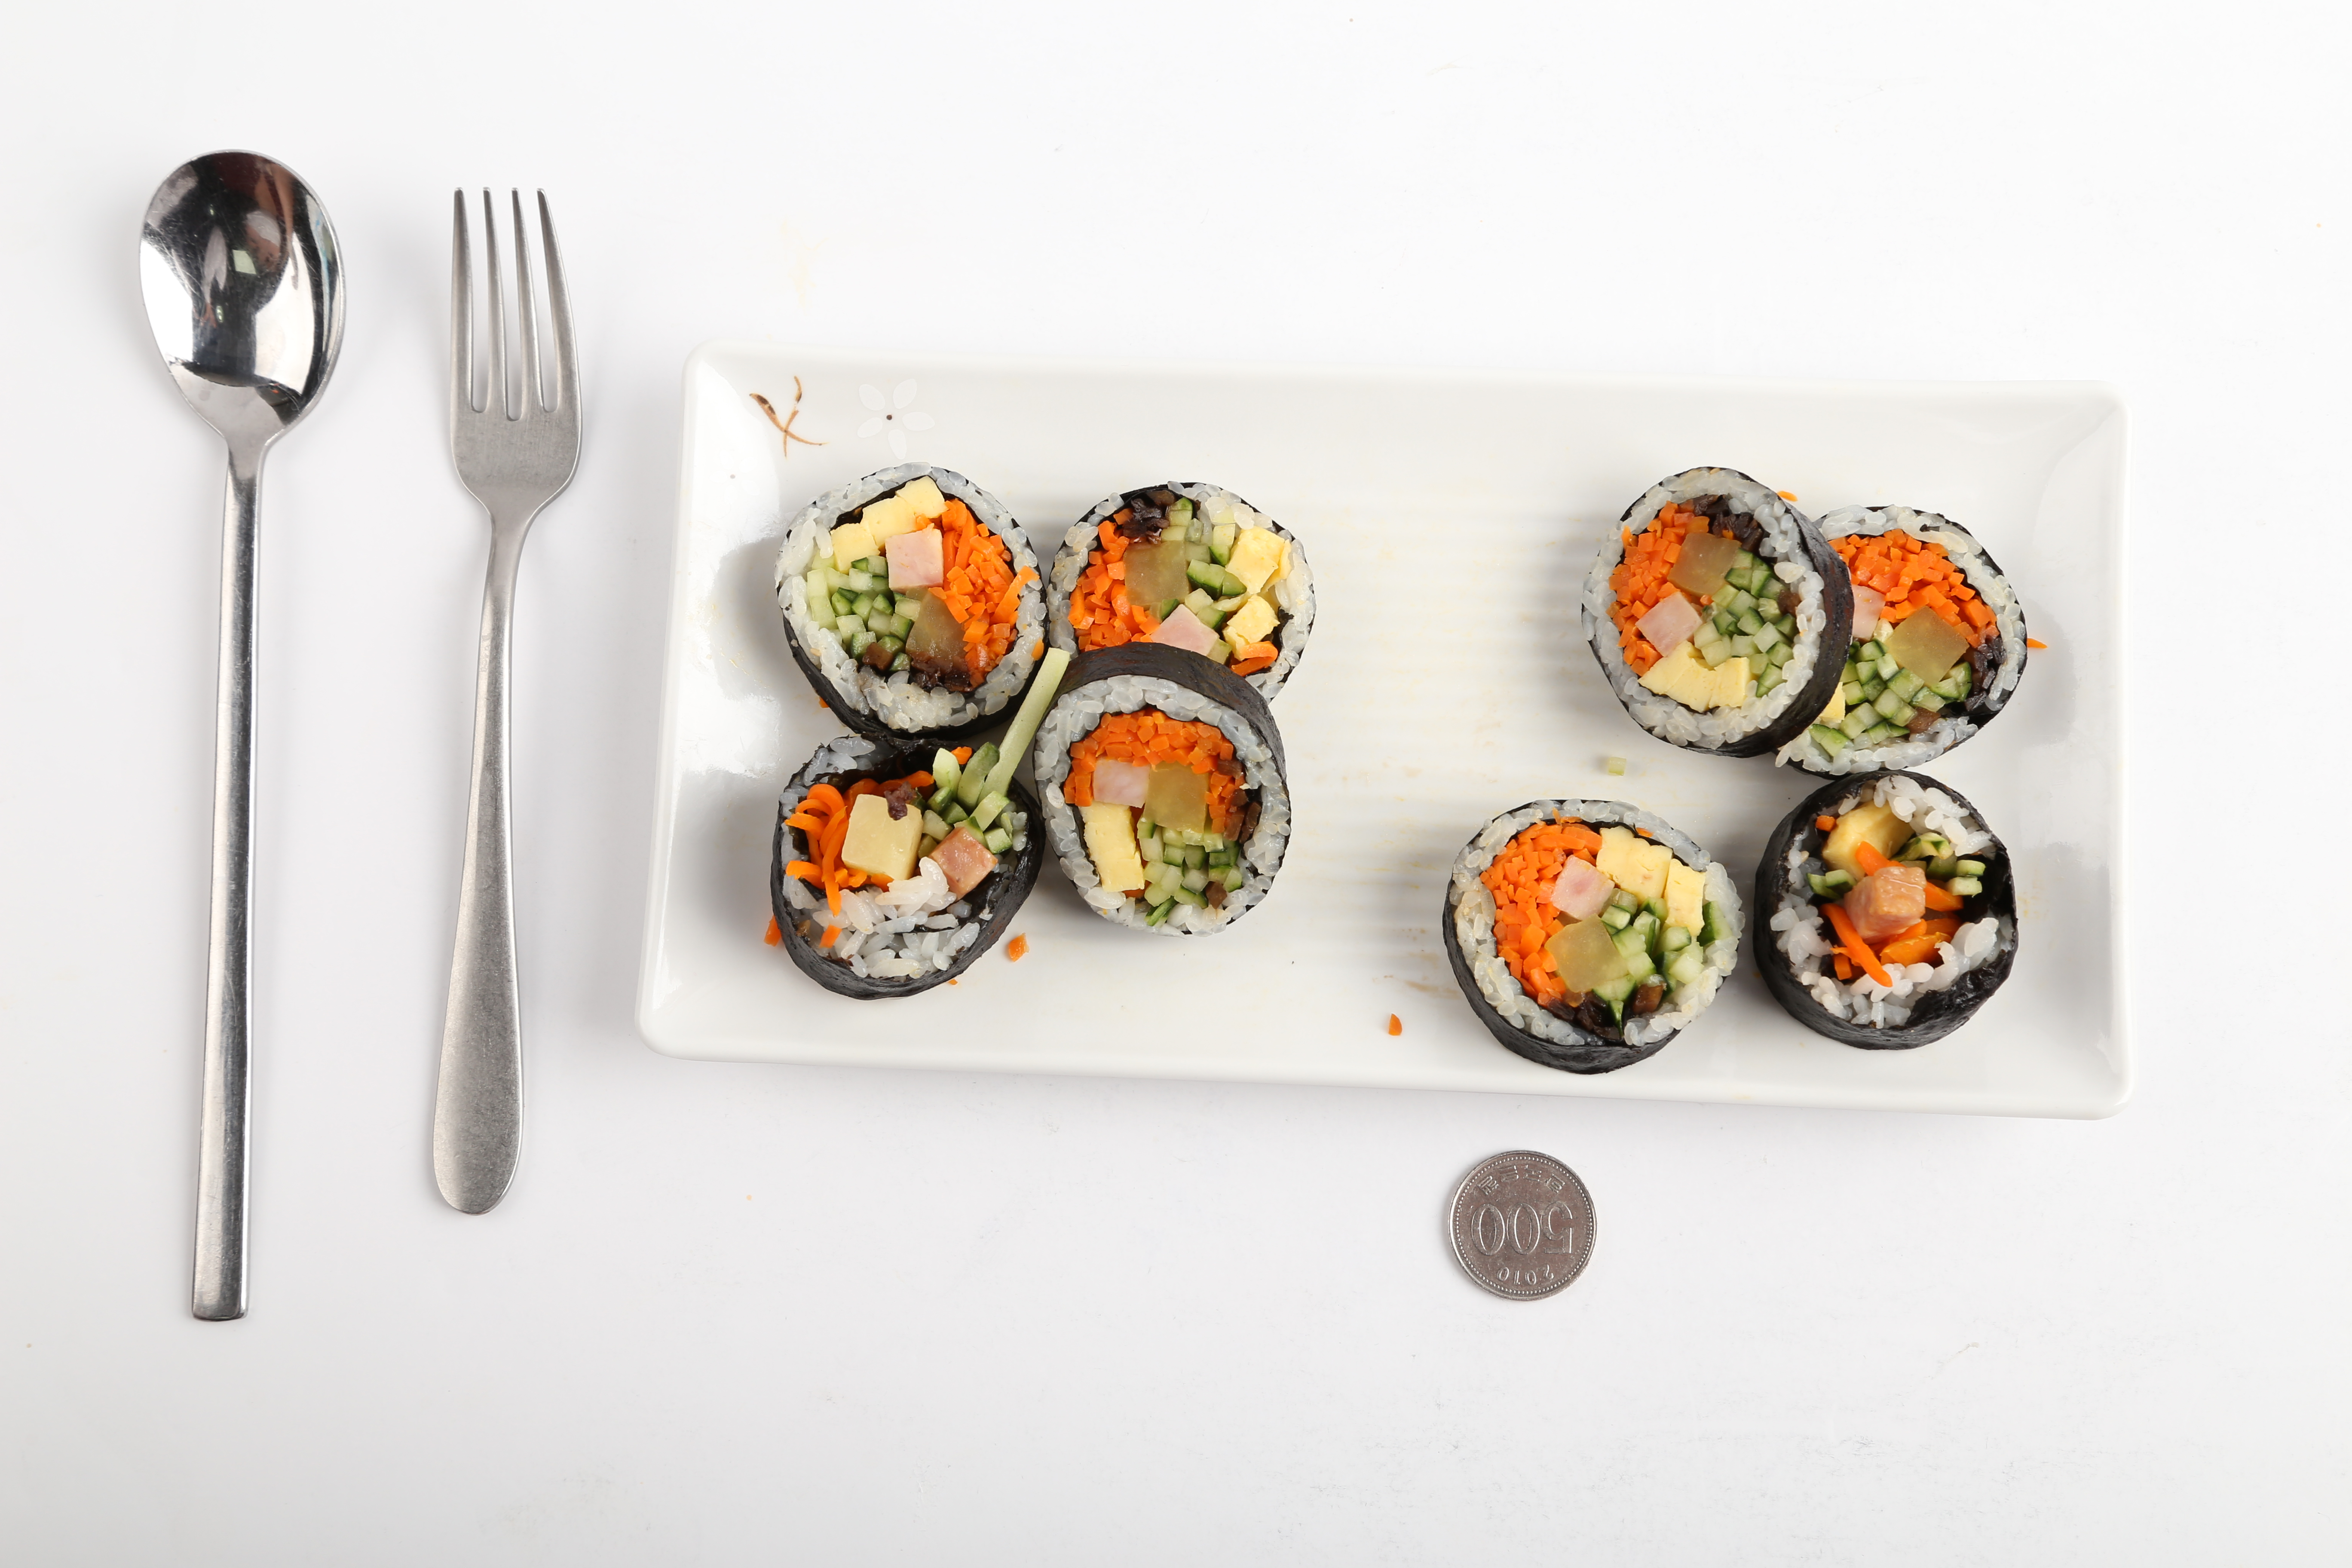dish: (674, 327, 2135, 1118)
ref_coin: (1442, 1144, 1599, 1307)
ref_fork: (443, 185, 588, 558)
ref_spoon: (133, 143, 355, 497)
김밥: (766, 462, 2032, 1076)
